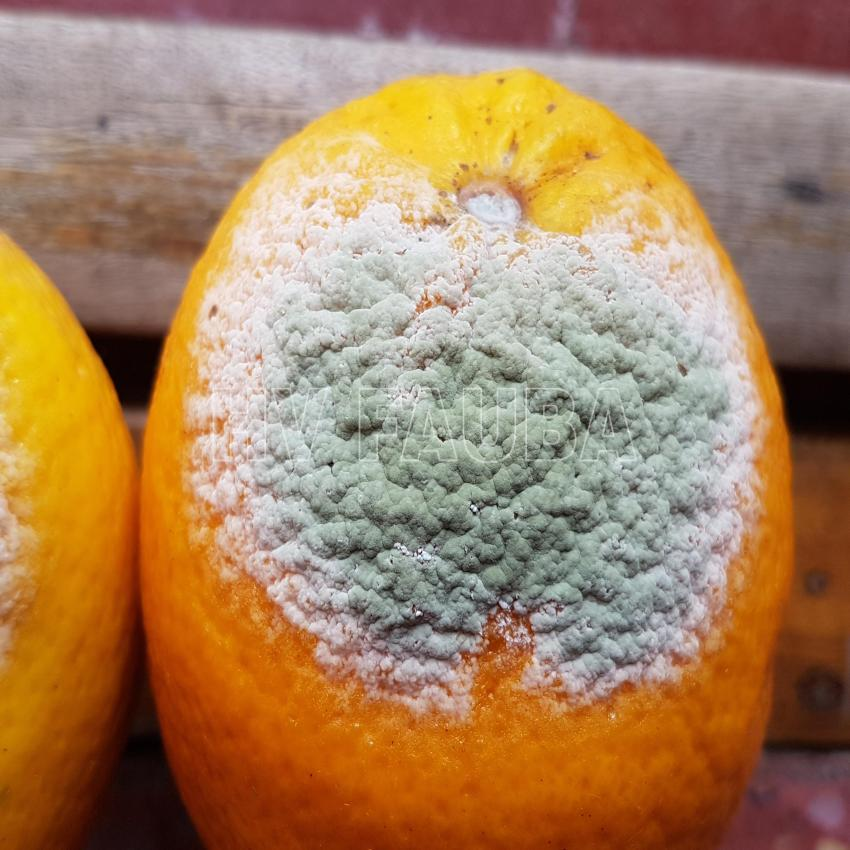Mal estado: (134, 61, 799, 845)
